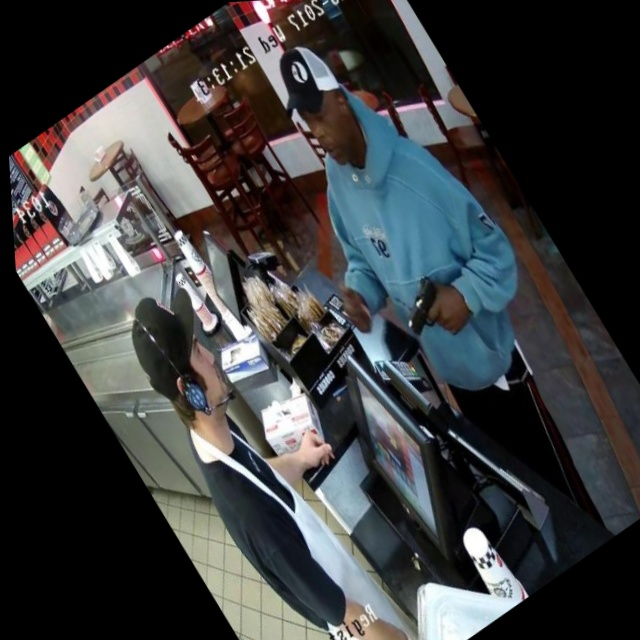gun: (374, 252, 475, 356)
